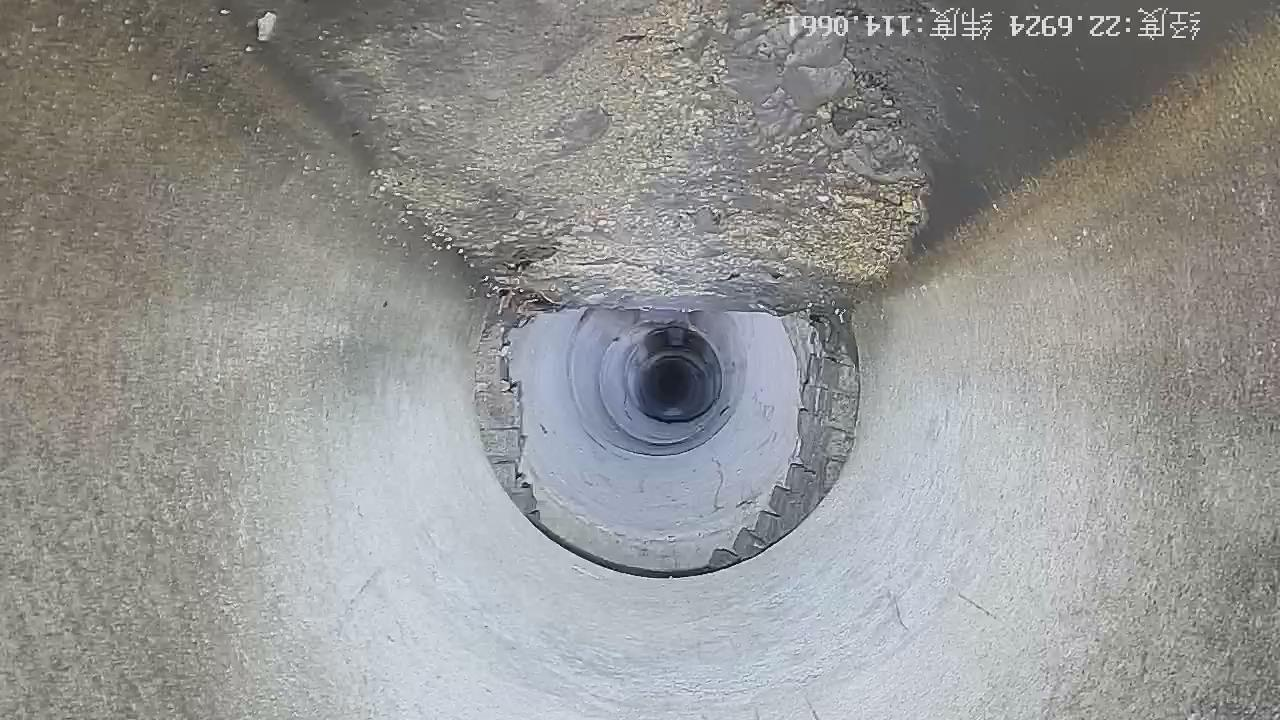CJ: (282, 1, 928, 309)
CQBG: (477, 292, 859, 576)
